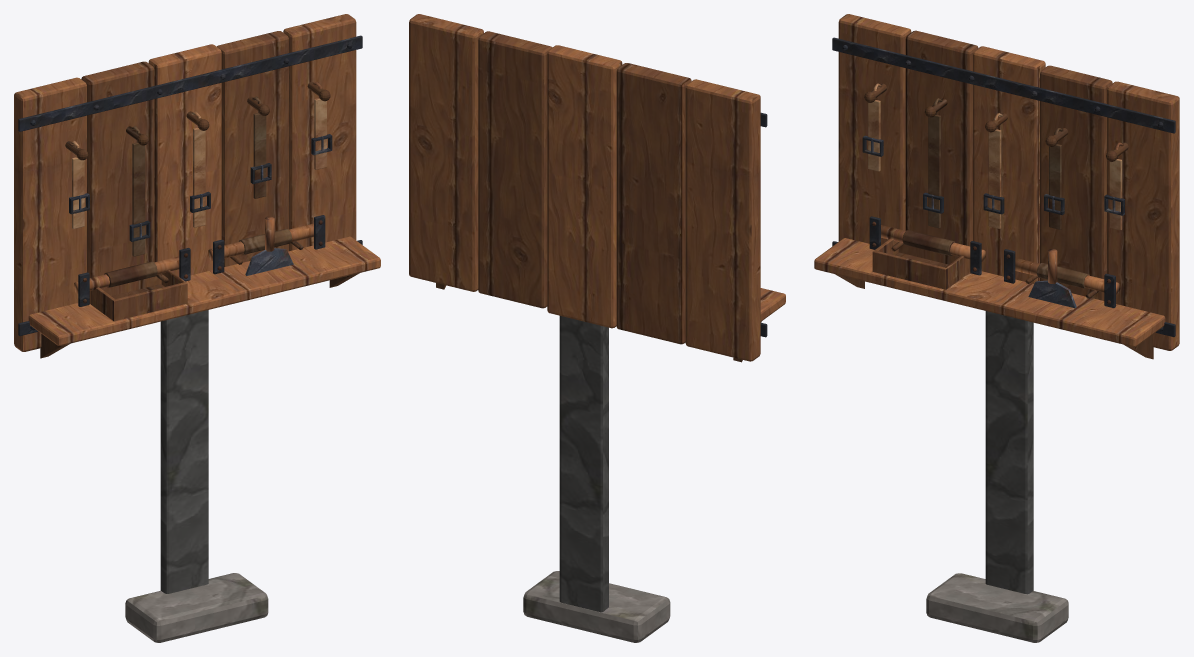
Rendered from hs_strap_rack.glb.
3 renders of one model, left to right at view 1: azimuth 30°, elevation 25°; view 2: azimuth 150°, elevation 25°; view 3: azimuth 330°, elevation 25°, orthographic. The views are drawn at different scales.
Visible parts, largest first — view 1: model; view 2: model; view 3: model.
Boxes of the visible parts, bbox=[...] form: model: bbox=[14, 14, 380, 642]; model: bbox=[409, 14, 785, 642]; model: bbox=[814, 14, 1179, 642].
Size of the model in its own units: 1.02 by 1.58 by 0.205.
11 materials, 11 textured.
